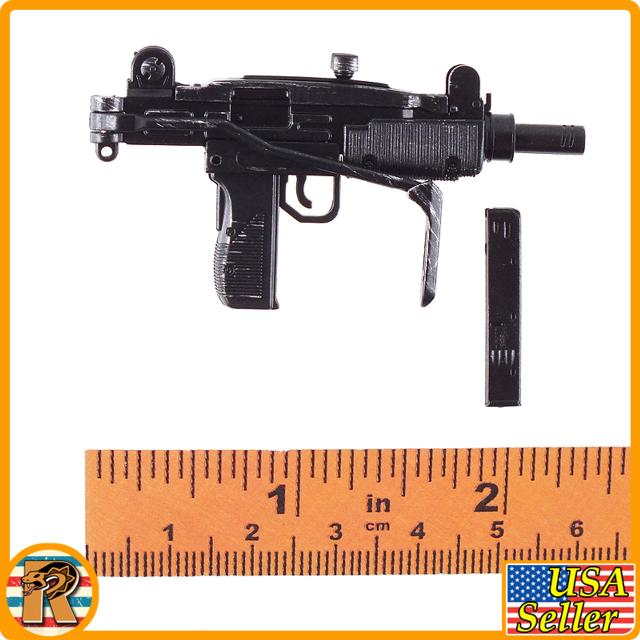SMG: (88, 46, 588, 312)
